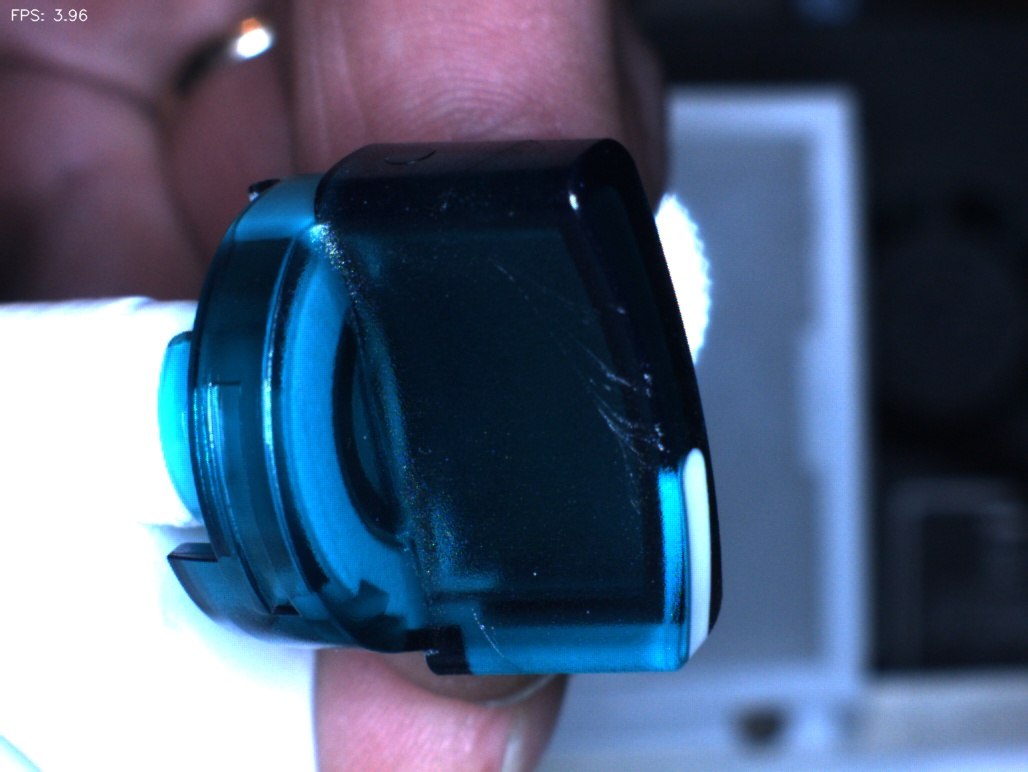Givrage: (555, 334, 679, 510)
